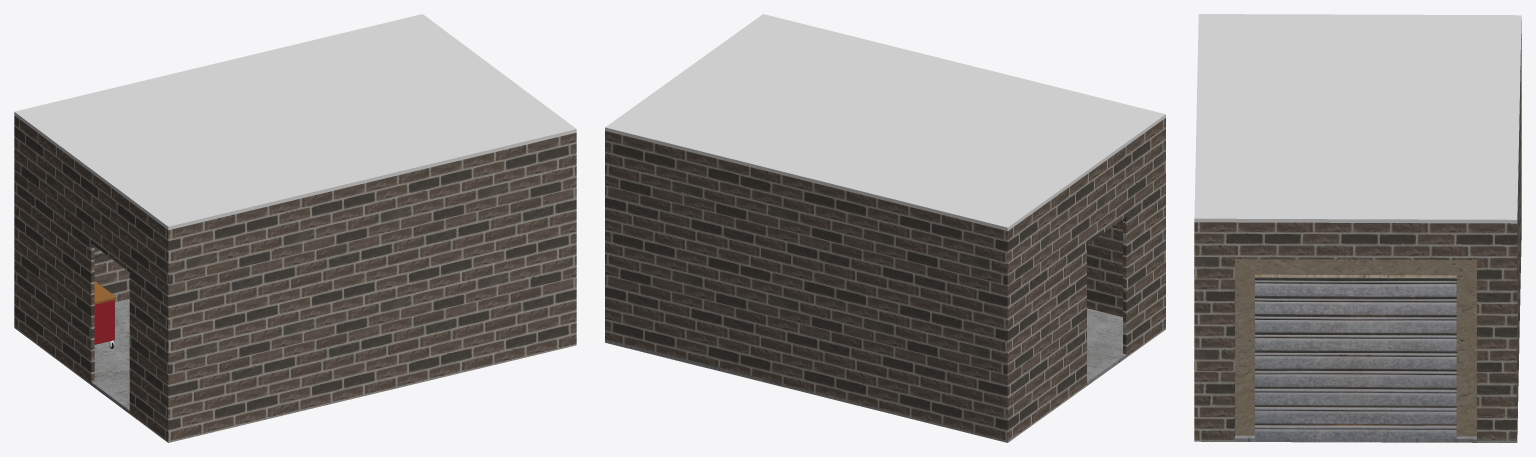
Rendered from garage.glb.
The picture shows the model from 3 angles, left to right: view 1: azimuth 30°, elevation 25°; view 2: azimuth 150°, elevation 25°; view 3: azimuth 270°, elevation 25°; orthographic projection. The views are drawn at different scales.
Visible parts, largest first — view 1: Plane, Ceiling, Plane.001, Garage_Toolbox; view 2: Plane, Ceiling, Plane.001; view 3: Ceiling, Plane.002, Plane, Plane.001.
Boxes of the visible parts, left/top/right/bottom form: Plane: left=14, top=115, right=576, bottom=442; Ceiling: left=14, top=14, right=576, bottom=230; Plane.001: left=17, top=298, right=574, bottom=442; Garage_Toolbox: left=94, top=281, right=116, bottom=348; Plane: left=605, top=118, right=1165, bottom=442; Ceiling: left=605, top=14, right=1165, bottom=230; Plane.001: left=605, top=308, right=1165, bottom=441; Ceiling: left=1194, top=14, right=1521, bottom=223; Plane.002: left=1235, top=259, right=1476, bottom=442; Plane: left=1194, top=21, right=1521, bottom=442; Plane.001: left=1194, top=334, right=1519, bottom=442.
Size of the model in its own units: 6.03 by 3.05 by 4.05.
Materials: 20 (4 with a texture image).
